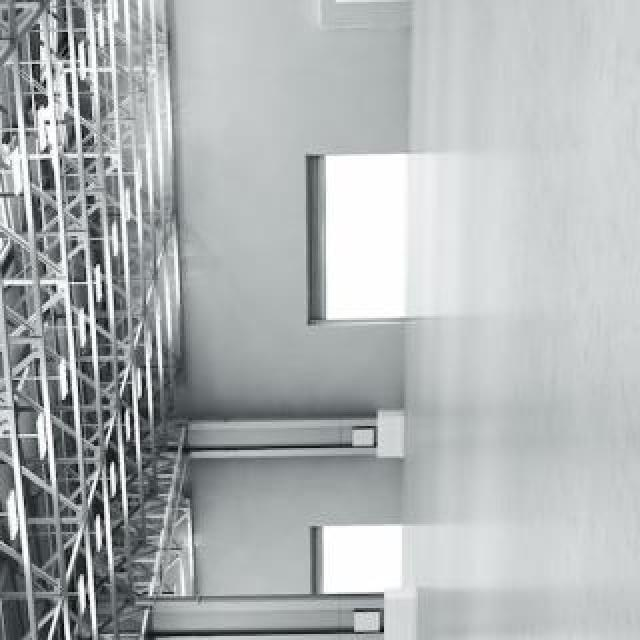fluorescent tube: (29, 396, 55, 456), (88, 253, 108, 305), (74, 300, 94, 351), (102, 211, 122, 258)
